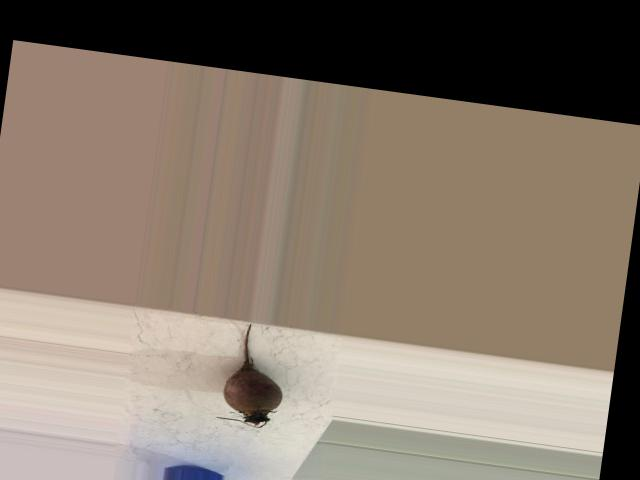beet: (214, 320, 290, 430)
